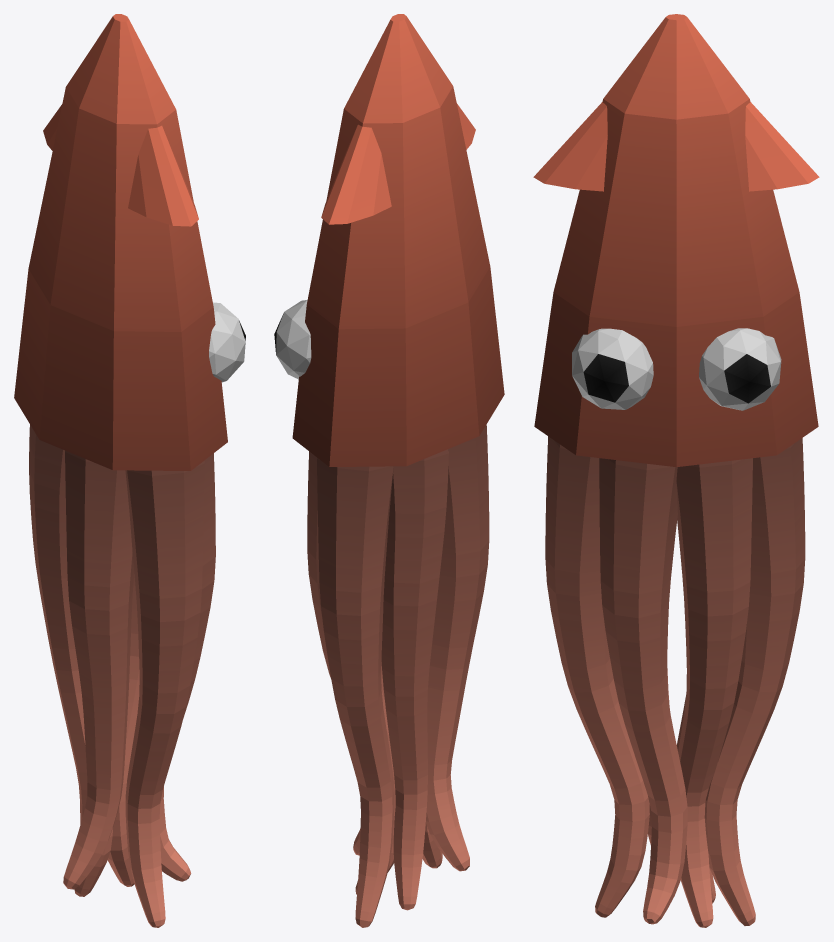
Rendered from squid.glb.
3 renders of one model, left to right at view 1: azimuth 30°, elevation 25°; view 2: azimuth 150°, elevation 25°; view 3: azimuth 270°, elevation 25°, orthographic. The views are drawn at different scales.
Parts seen in each view (by area): view 1: squid_merged; view 2: squid_merged; view 3: squid_merged.
Part boxes in pixels (x1=…): squid_merged: x1=14, y1=14, x2=245, y2=927; squid_merged: x1=274, y1=14, x2=504, y2=927; squid_merged: x1=533, y1=14, x2=819, y2=927.
Bounding box in the file's own units: 1.97 × 9.83 × 2.81.
Materials: 1 (1 with a texture image).
